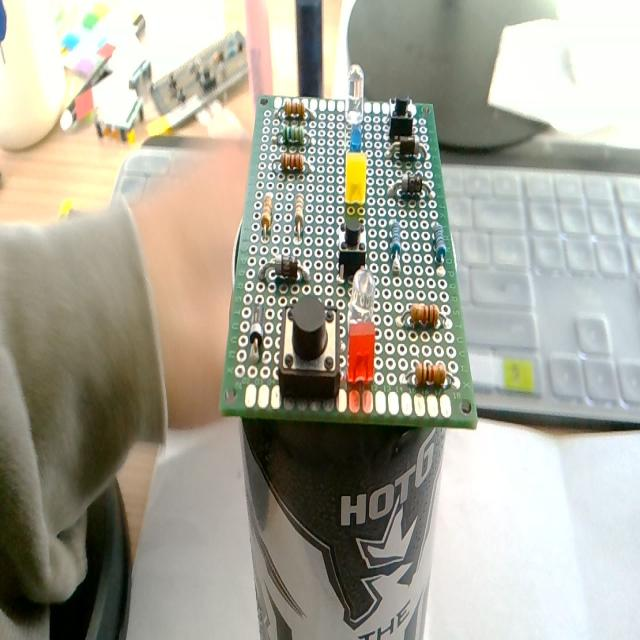diode: (245, 290, 271, 364), (384, 168, 434, 204), (260, 253, 310, 286)
led: (346, 319, 380, 411), (342, 150, 368, 213), (344, 64, 368, 127)
resistor: (405, 355, 453, 393), (404, 299, 446, 334), (428, 217, 448, 279), (387, 219, 407, 279), (260, 184, 276, 243), (280, 148, 308, 180), (291, 188, 307, 242)
switch: (276, 290, 346, 412), (333, 215, 372, 281)
